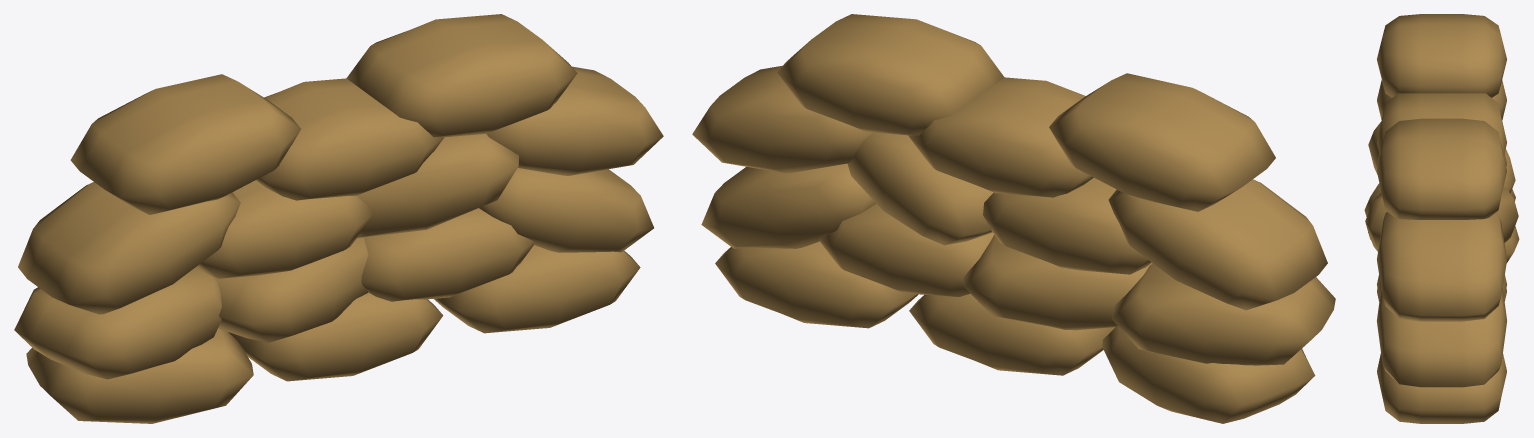
File: Barricada de arena_0.fbx
The picture shows the model from 3 angles, left to right: view 1: azimuth 30°, elevation 25°; view 2: azimuth 150°, elevation 25°; view 3: azimuth 270°, elevation 25°; orthographic projection. The views are drawn at different scales.
Visible parts, largest first — view 1: Cube.009; view 2: Cube.009; view 3: Cube.009.
Part boxes in pixels (x1=…): Cube.009: x1=14, y1=14, x2=663, y2=423; Cube.009: x1=692, y1=14, x2=1335, y2=423; Cube.009: x1=1364, y1=14, x2=1519, y2=423.
Bounding box in the file's own units: 188 × 84.09 × 48.84.
